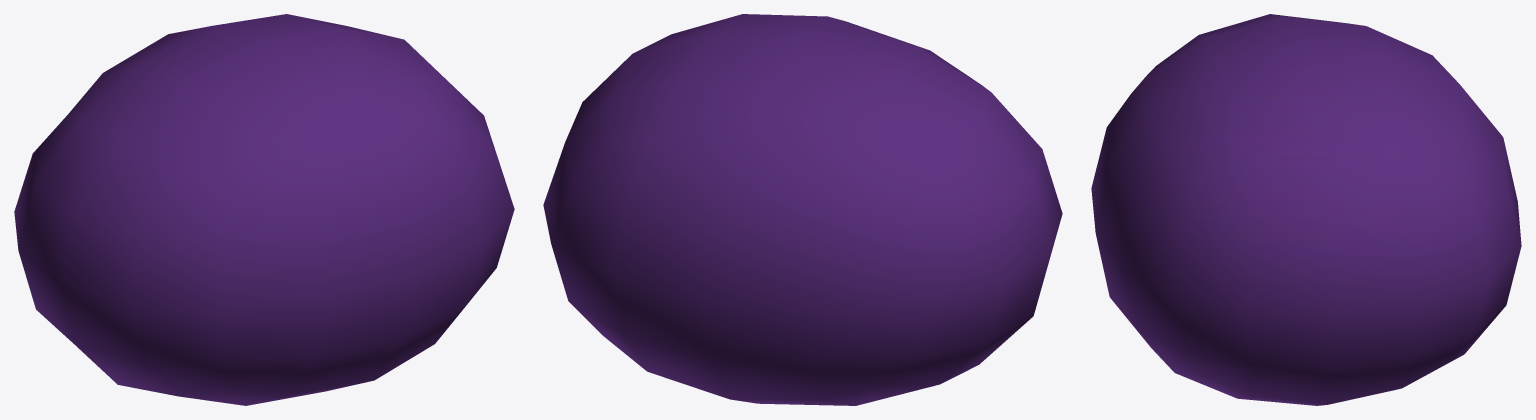
The model's file is candy5.fbx.
The picture shows the model from 3 angles, left to right: view 1: azimuth 30°, elevation 25°; view 2: azimuth 150°, elevation 25°; view 3: azimuth 270°, elevation 25°; orthographic projection. The views are drawn at different scales.
Visible parts, largest first — view 1: pCube35; view 2: pCube35; view 3: pCube35.
Part boxes in pixels (x1,y1,x2,y2): pCube35: (14, 14, 514, 405); pCube35: (543, 14, 1062, 405); pCube35: (1091, 14, 1521, 405).
Bounding box in the file's own units: 1.07 × 0.7771 × 0.9212.
